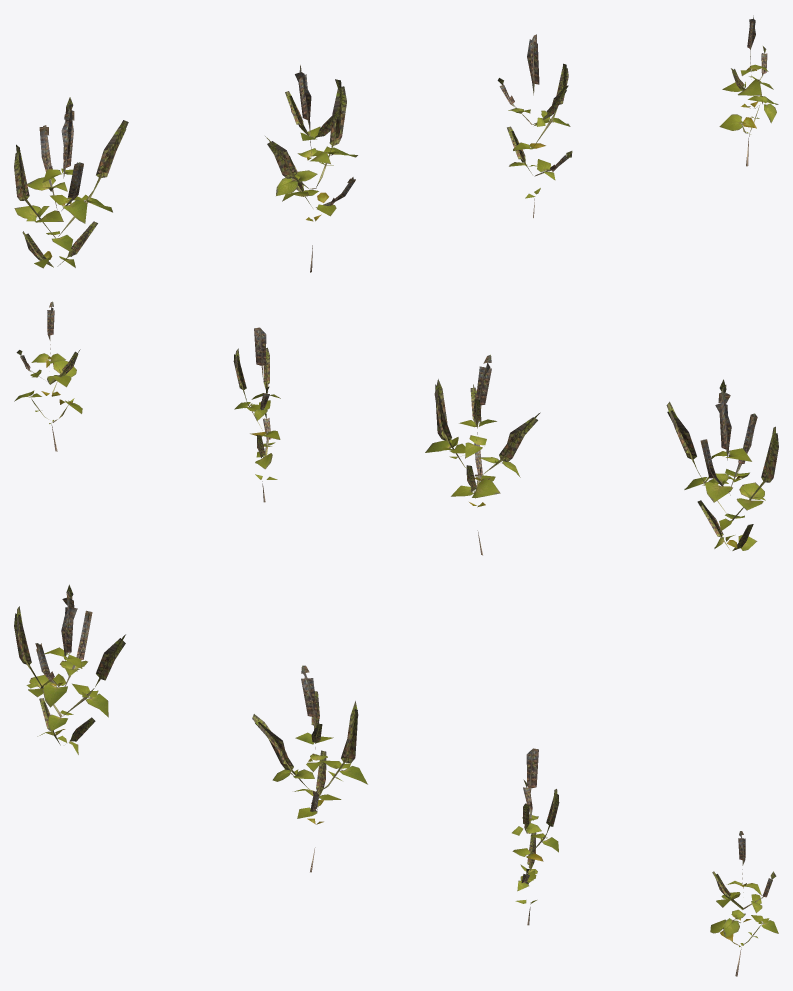
Rendered from shrub_03.gltf.
The picture shows the model from 3 angles, top to bottom: view 1: azimuth 30°, elevation 25°; view 2: azimuth 150°, elevation 25°; view 3: azimuth 330°, elevation 25°; orthographic projection. The views are drawn at different scales.
Visible parts, largest first — view 1: shrub_03_a, shrub_03_b, shrub_03_c, shrub_03_d; view 2: shrub_03_a, shrub_03_b, shrub_03_c, shrub_03_d; view 3: shrub_03_a, shrub_03_b, shrub_03_c, shrub_03_d.
Part boxes in pixels (bbox=[...]): shrub_03_a: bbox=[14, 97, 128, 268]; shrub_03_b: bbox=[265, 65, 357, 272]; shrub_03_c: bbox=[497, 34, 572, 217]; shrub_03_d: bbox=[719, 15, 778, 166]; shrub_03_a: bbox=[666, 379, 778, 550]; shrub_03_b: bbox=[425, 354, 540, 555]; shrub_03_c: bbox=[233, 327, 280, 502]; shrub_03_d: bbox=[14, 301, 82, 451]; shrub_03_a: bbox=[14, 584, 125, 754]; shrub_03_b: bbox=[252, 665, 367, 872]; shrub_03_c: bbox=[512, 748, 559, 925]; shrub_03_d: bbox=[710, 831, 778, 976].
Size of the model in its own units: 1.37 by 0.4019 by 0.1512.
1 material, 1 textured.
